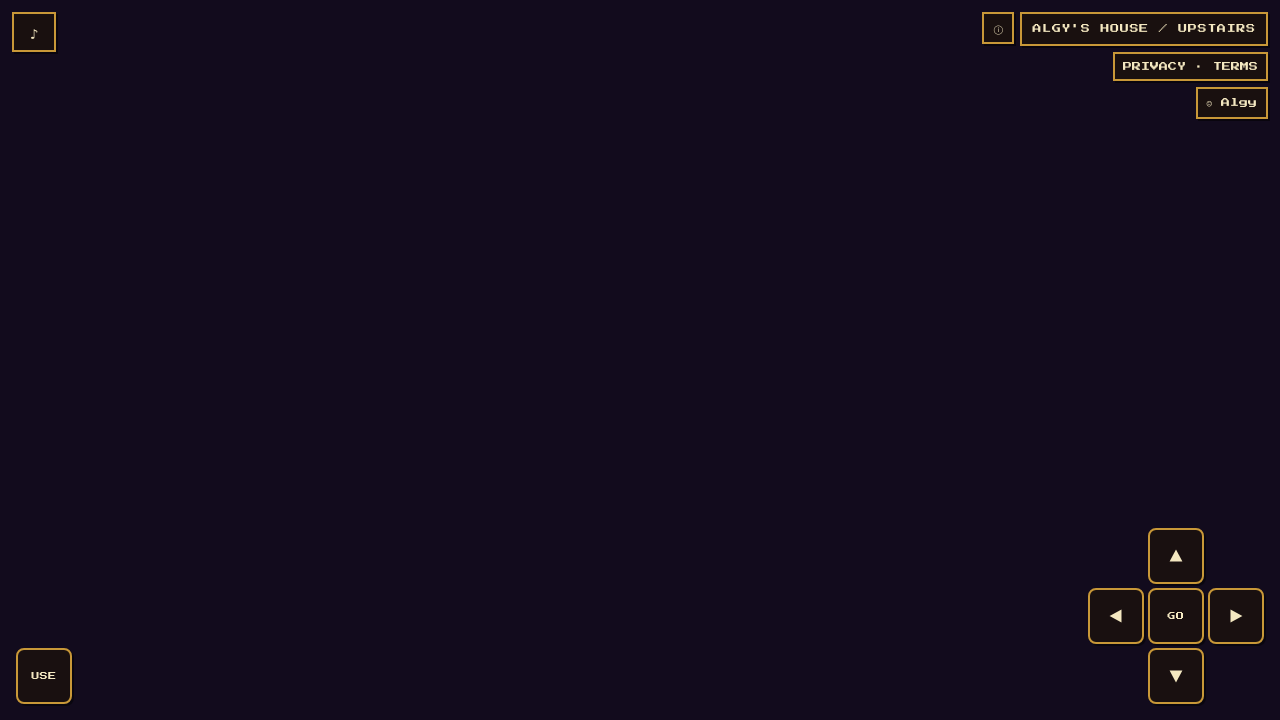
Scenario: Algy's House computer interaction › opens the exact computer dialogue for algy through Use only after interaction
Step 1. Click the button "USE" → (44, 676), box [16,648,72,704]
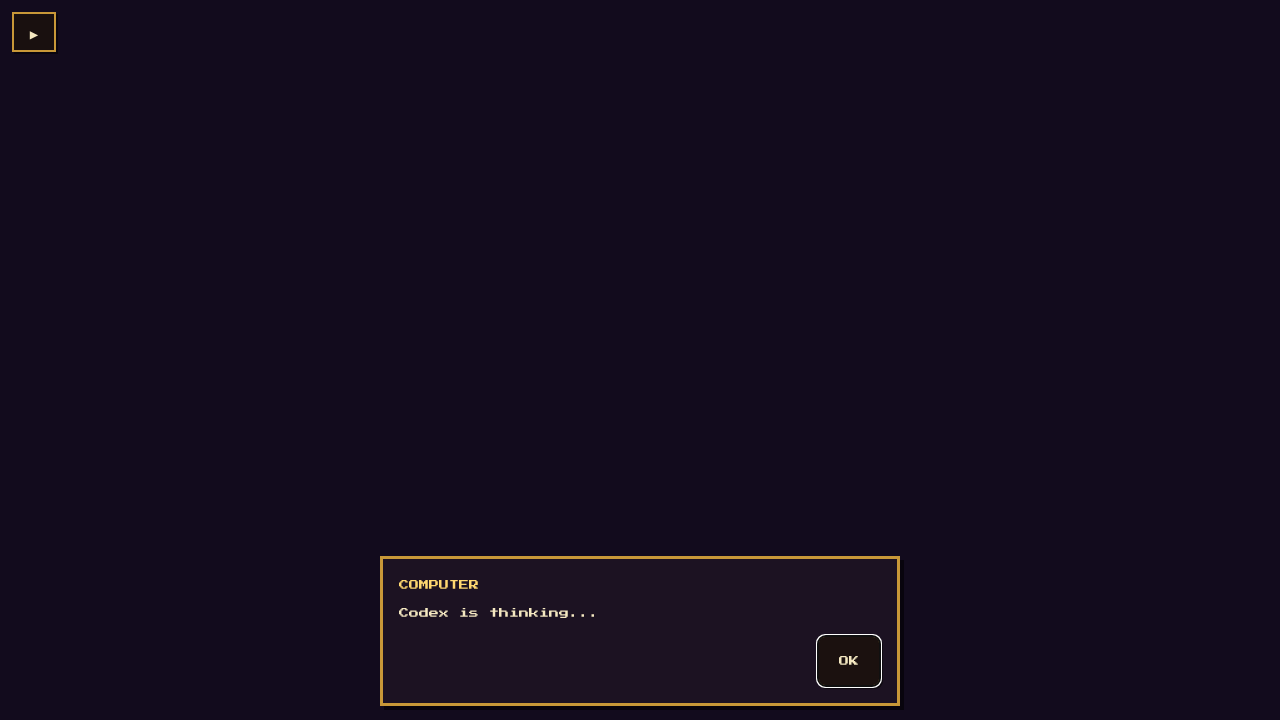
Expected: the dialog shows "COMPUTER", [399,580,479,590]
Expected: the dialog shows "Codex is thinking...", [399,608,599,618]
